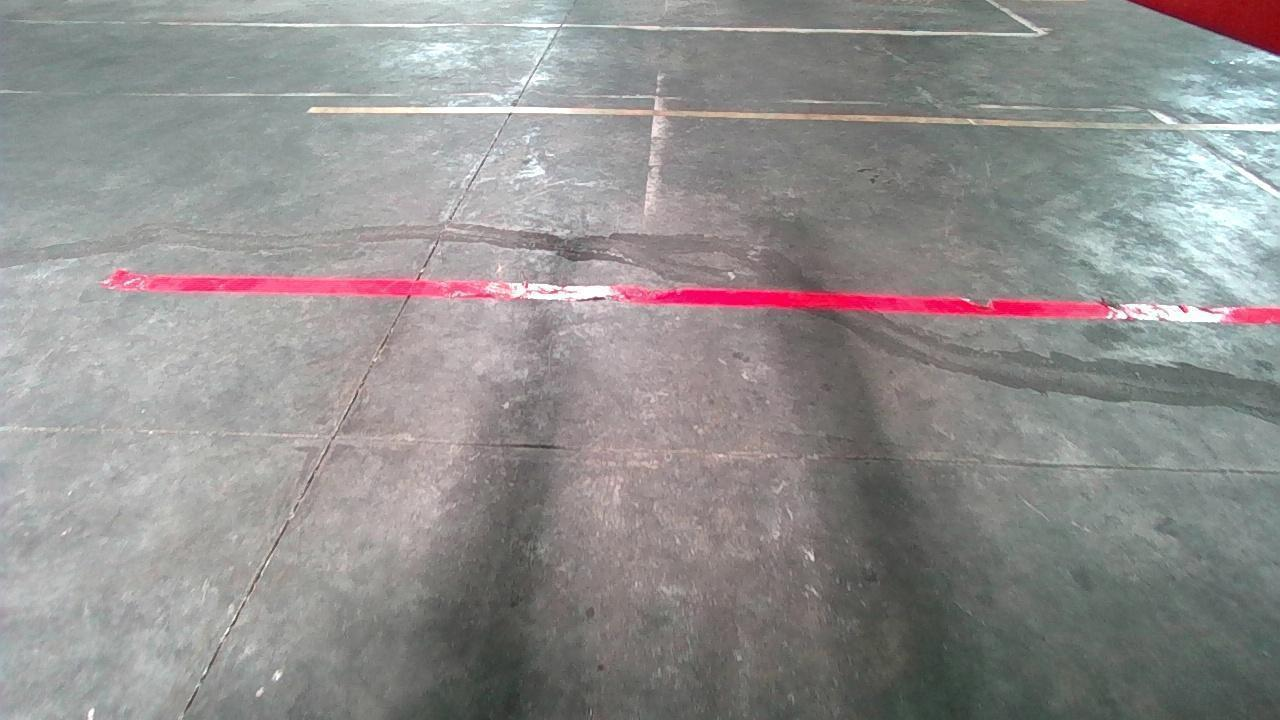red_line: (98, 269, 1280, 327)
yellow_line: (308, 103, 1280, 133)
